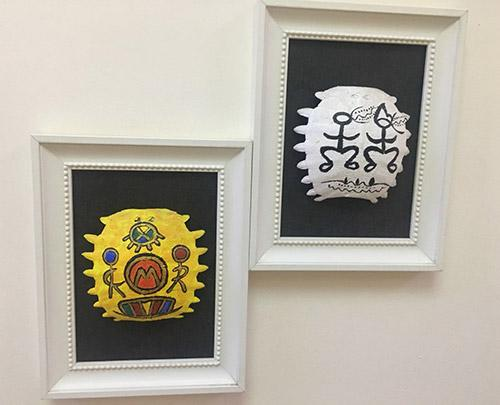naxi: (100, 219, 194, 318), (321, 106, 405, 180)
